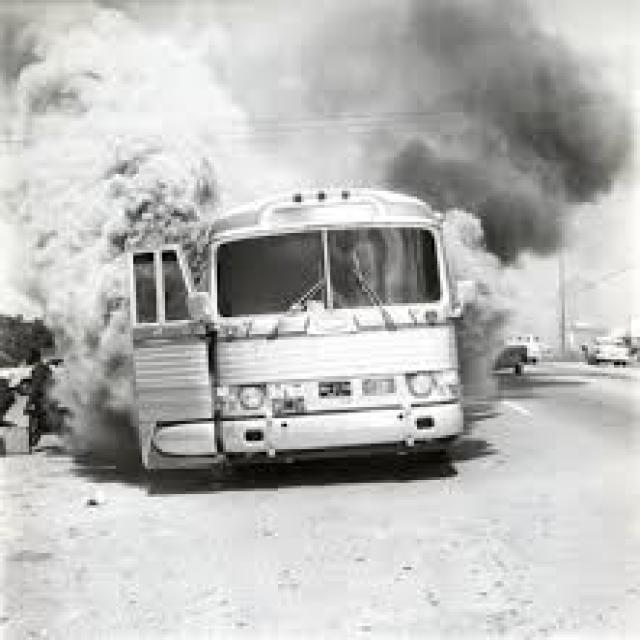Smoke: (3, 31, 214, 455), (448, 17, 602, 370)
